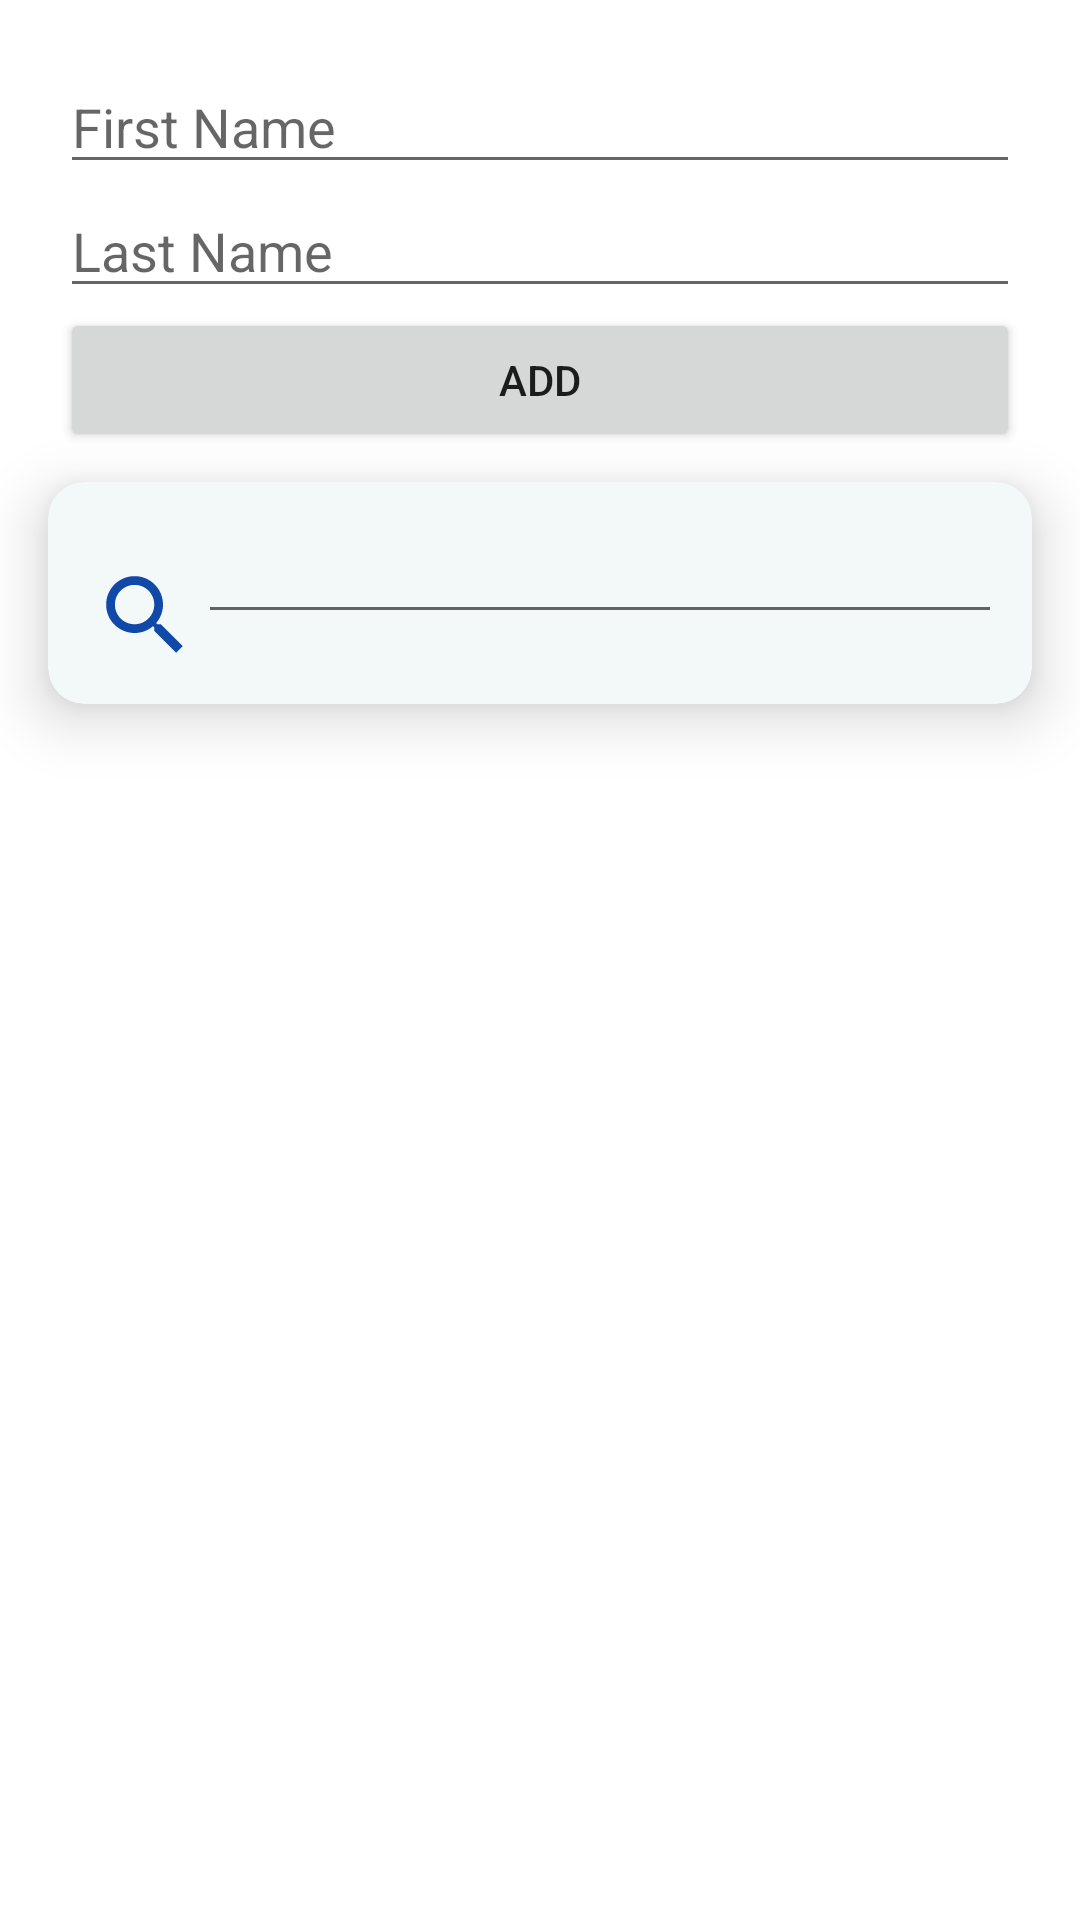

Screen size 1080 x 1920. Icon name, then its center in pixels as point (x, y):
search: point (144, 614)
